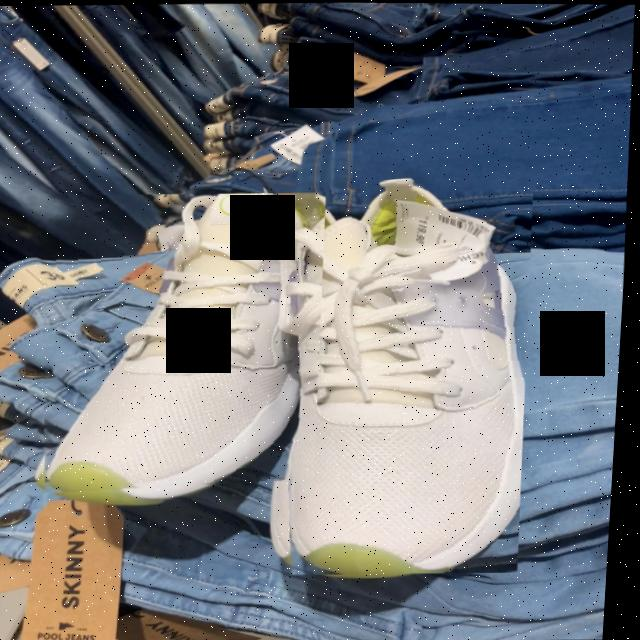shoe: (292, 181, 529, 573), (48, 192, 328, 489)
